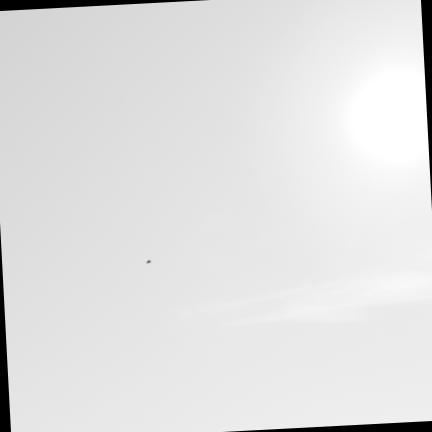Shahed: (146, 260, 152, 264)
